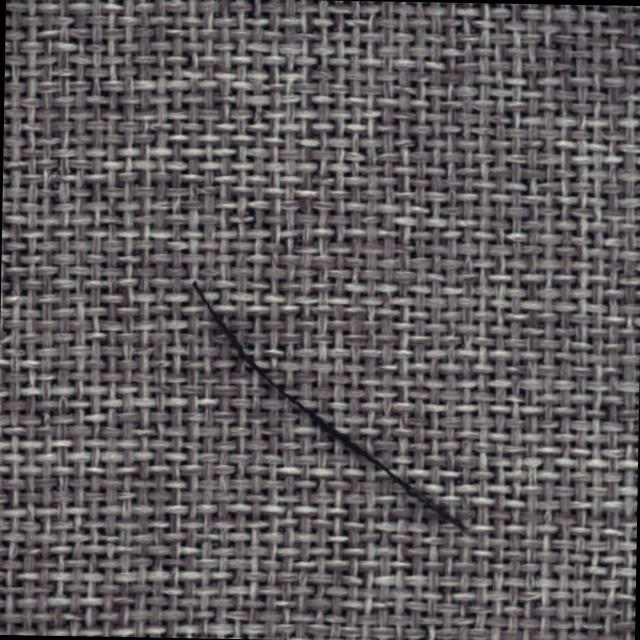Thread: (182, 276, 483, 538)
